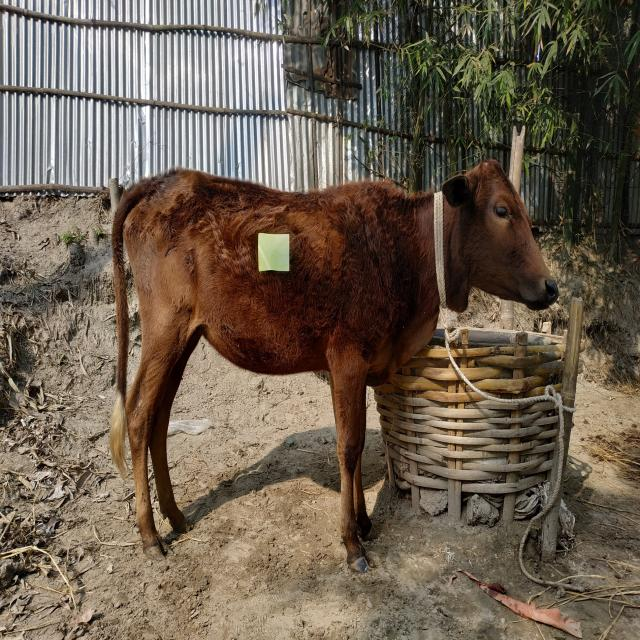badan_sapi: (144, 184, 384, 380)
sapi: (96, 158, 561, 566)
